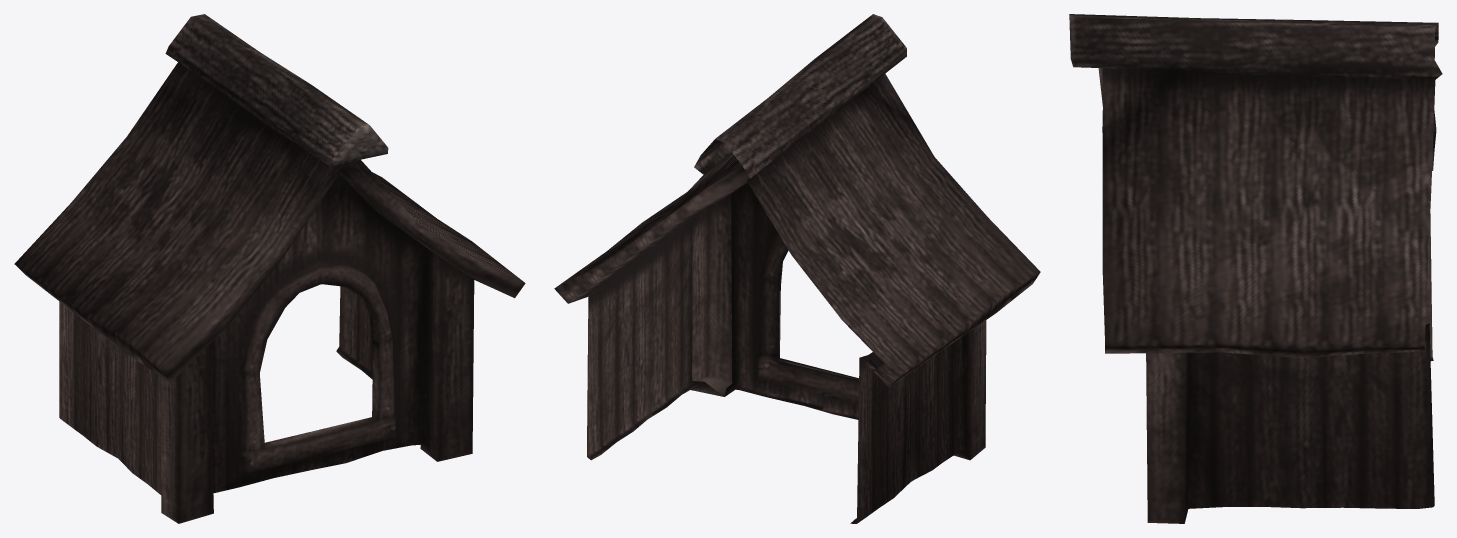
The model's file is Roof Window Straight.FBX.
3 renders of one model, left to right at view 1: azimuth 30°, elevation 25°; view 2: azimuth 150°, elevation 25°; view 3: azimuth 270°, elevation 25°, orthographic. The views are drawn at different scales.
Visible parts, largest first — view 1: Roof Window Straight; view 2: Roof Window Straight; view 3: Roof Window Straight.
Boxes of the visible parts, left/top/right/bottom form: Roof Window Straight: left=14, top=14, right=525, bottom=523; Roof Window Straight: left=554, top=14, right=1040, bottom=523; Roof Window Straight: left=1069, top=14, right=1442, bottom=523.
Bounding box in the file's own units: 159 × 127 × 162.
1 material, 1 textured.
